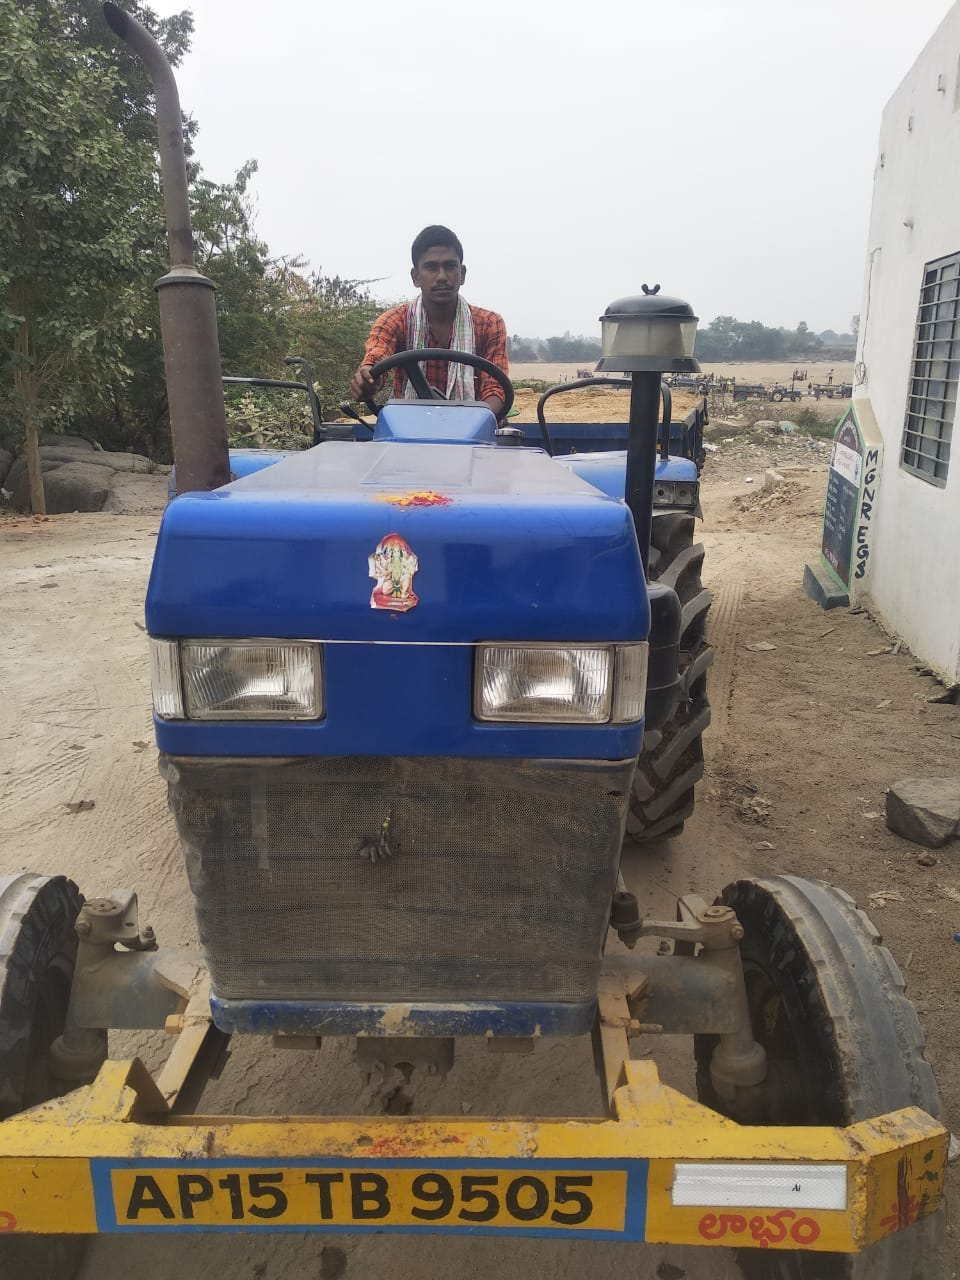license_plate: (98, 1159, 637, 1237)
